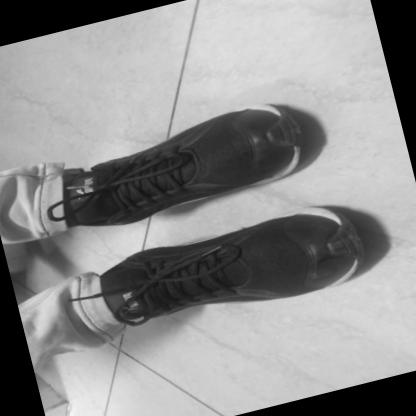ankle: (128, 264, 134, 268), (107, 218, 111, 221)
heel: (163, 210, 165, 211), (180, 245, 182, 246)
left_foot: (47, 97, 314, 240)
pinky: (232, 114, 240, 119), (300, 290, 304, 293)
right_foot: (99, 197, 373, 341)
toe: (271, 162, 279, 169), (304, 226, 311, 230)
